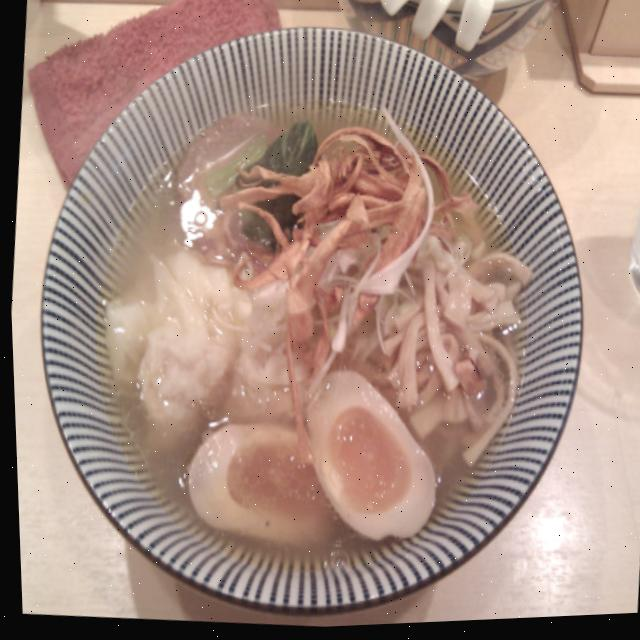面条主食: (0, 0, 624, 640)
